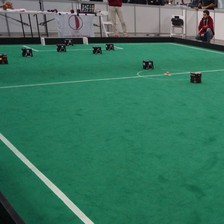ball: (164, 69, 170, 75)
goal: (37, 34, 89, 48)
robot: (188, 69, 202, 84), (20, 45, 34, 58), (140, 57, 154, 68), (89, 43, 99, 54), (1, 52, 9, 65), (103, 40, 113, 50), (54, 40, 64, 50), (61, 36, 71, 46)
